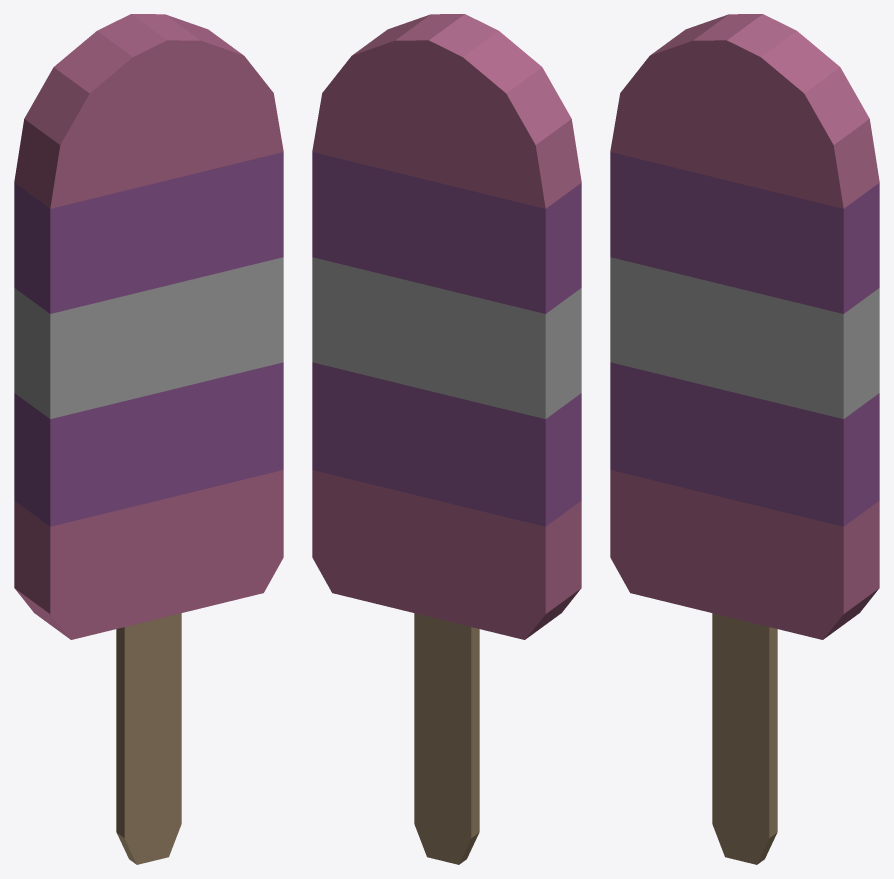
The model's file is Popsicle_Multiple.glb.
3 renders of one model, left to right at view 1: azimuth 30°, elevation 25°; view 2: azimuth 150°, elevation 25°; view 3: azimuth 330°, elevation 25°, orthographic.
Visible parts, largest first — view 1: Popsicle_Multiple; view 2: Popsicle_Multiple; view 3: Popsicle_Multiple.
Boxes of the visible parts, <box> form: Popsicle_Multiple: <box>14,14,283,864</box>; Popsicle_Multiple: <box>312,14,581,864</box>; Popsicle_Multiple: <box>610,14,879,864</box>.
Bounding box in the file's own units: 0.032 × 0.1089 × 0.00878.
